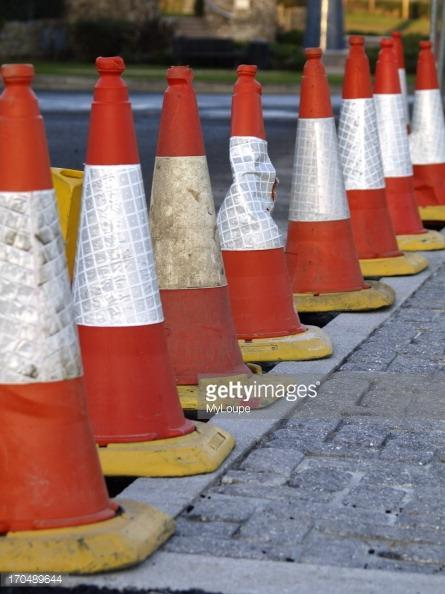Cone: (1, 75, 163, 564), (76, 58, 224, 475), (143, 64, 284, 408), (203, 60, 324, 358), (293, 50, 420, 268), (286, 56, 384, 306)
